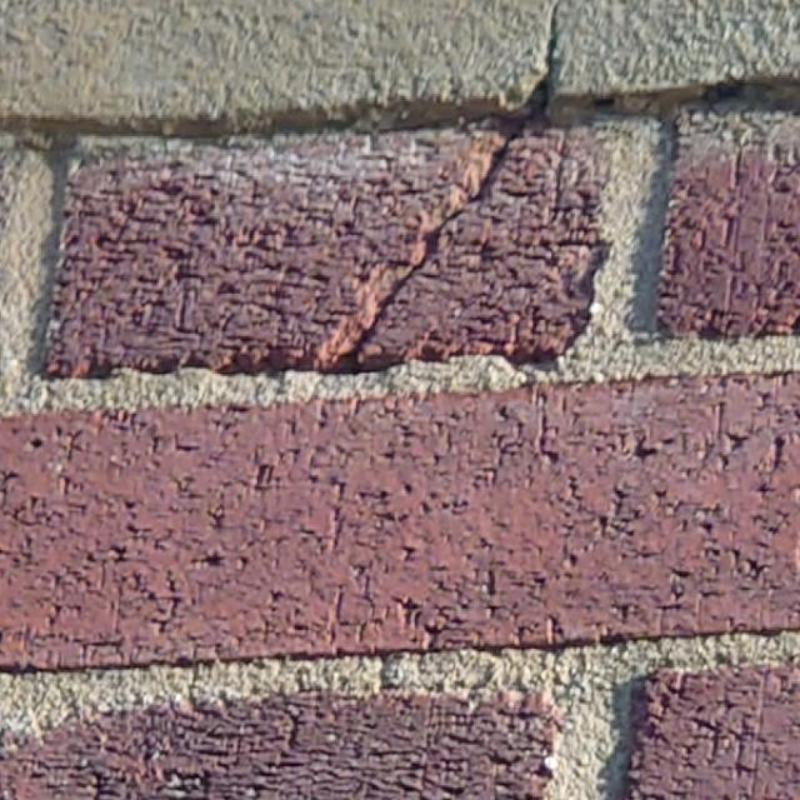pothole: (330, 1, 560, 367)
